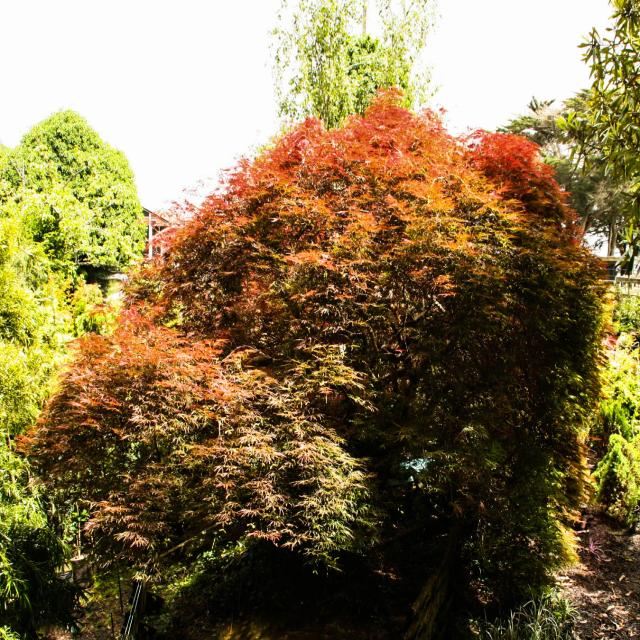Dissectum syn Atropurpurea: (17, 89, 608, 633)
